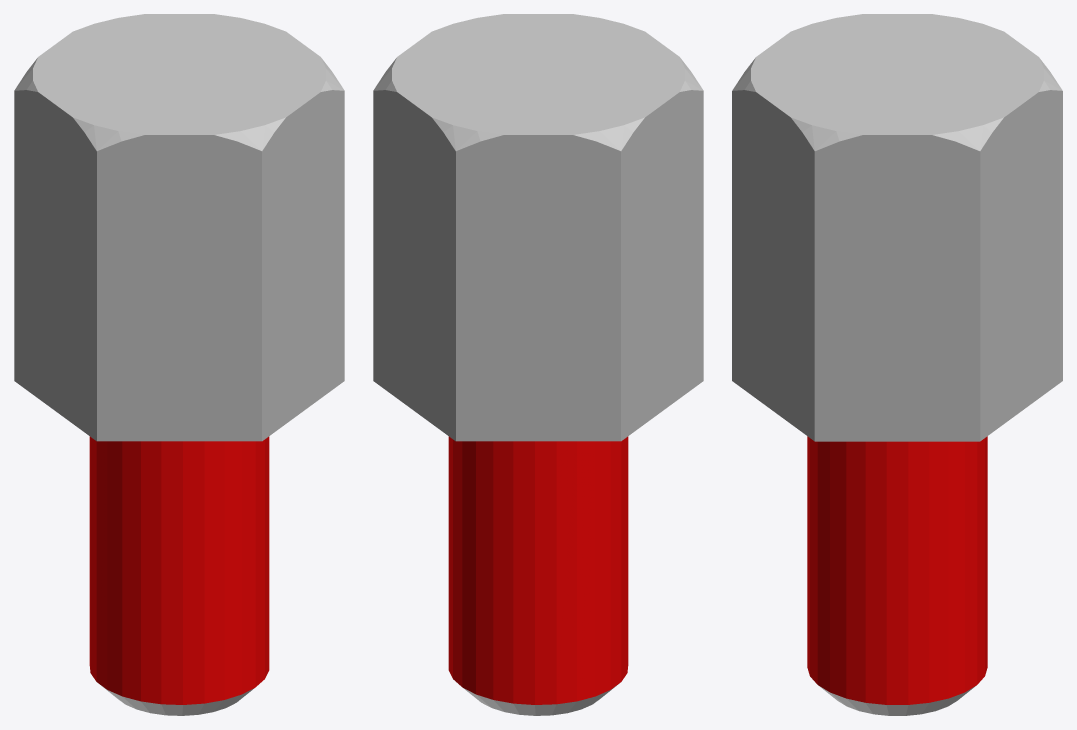
The model's file is 8_stp_1_9.obj.
3 renders of one model, left to right at view 1: azimuth 30°, elevation 25°; view 2: azimuth 150°, elevation 25°; view 3: azimuth 270°, elevation 25°, orthographic.
Visible parts, largest first — view 1: Object1; view 2: Object1; view 3: Object1.
Boxes of the visible parts, x1,y1,x2,y2 form: Object1: [14, 14, 344, 715]; Object1: [373, 14, 703, 715]; Object1: [732, 14, 1062, 715].
Size of the model in its own units: 12.7 by 30 by 14.66.
